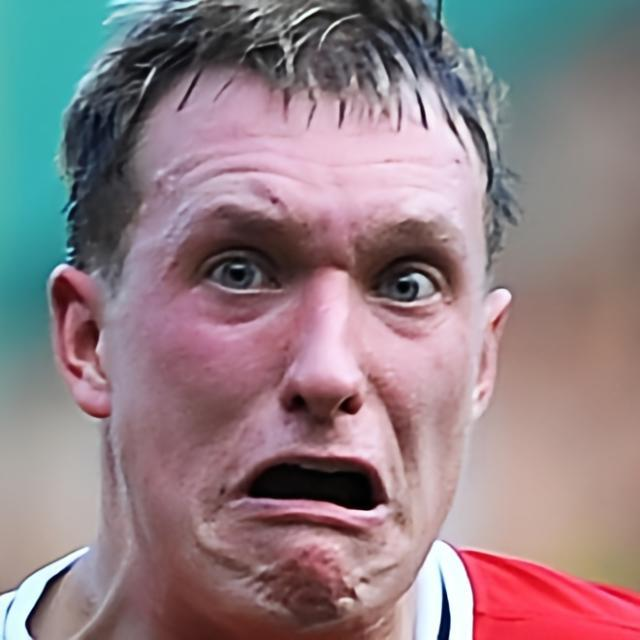disgust: (108, 57, 492, 630)
